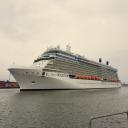cruises: (8, 42, 123, 93)
